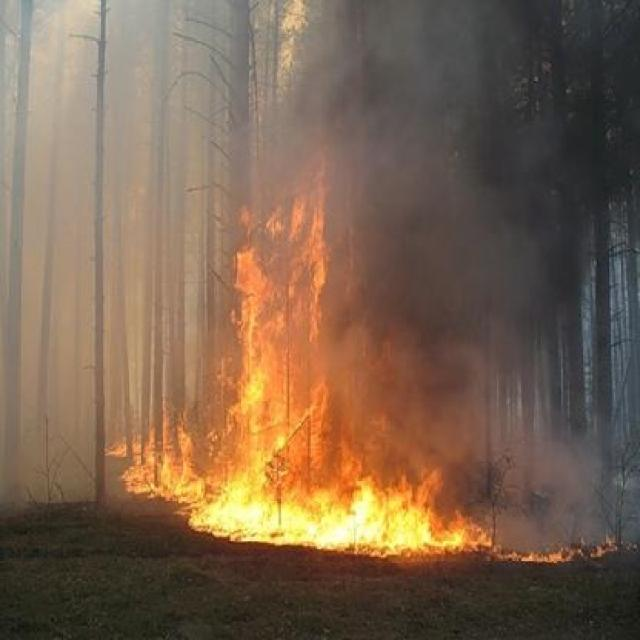Fire: (214, 151, 354, 556), (356, 444, 499, 554), (96, 420, 208, 526), (502, 537, 640, 570)
Smoke: (10, 1, 212, 424), (364, 18, 561, 444)
